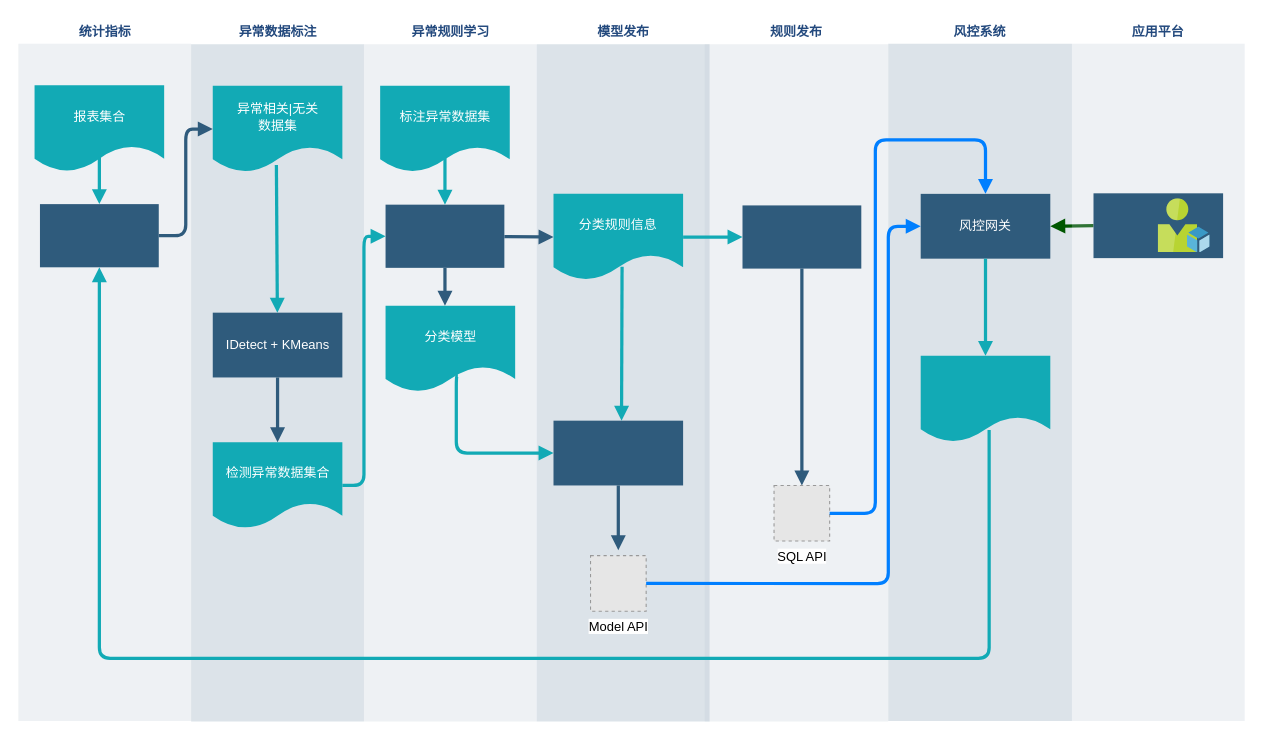
Image size: 1264x740. Some labels were removed from this diagram. Grey dashed boxes stand in for pictures. Each missing label, with the box of its shape:
Bagging: (385, 204, 504, 267)
MaaS: (553, 420, 683, 485)
SQLaaS: (742, 205, 861, 268)
异常发现与归因: (39, 204, 158, 267)
调用日志: (920, 355, 1050, 442)
